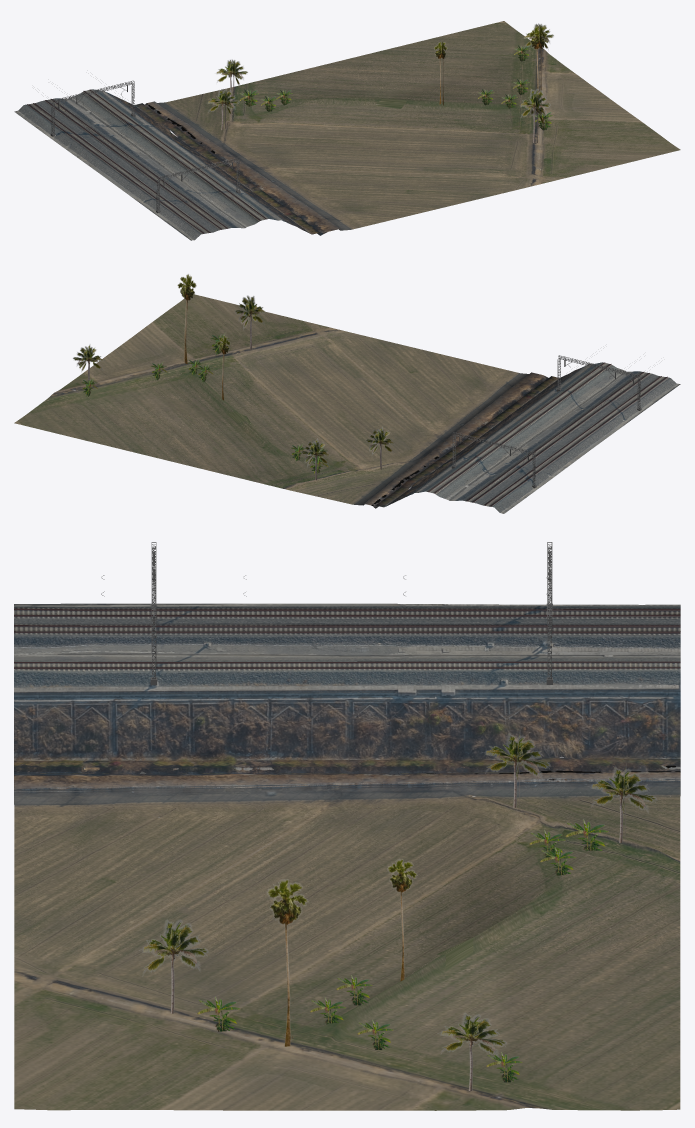
File: indian_railway_seane_scan_to_lowpoly.glb
3 renders of one model, top to bottom at view 1: azimuth 30°, elevation 25°; view 2: azimuth 150°, elevation 25°; view 3: azimuth 270°, elevation 25°, orthographic. The views are drawn at different scales.
Visible parts, largest first — view 1: lowpoly.001_0, lowpoly.002_3, banana.001_6, MAST_1, lowpoly.004_5; view 2: lowpoly.001_0, lowpoly.002_3, banana.001_6, lowpoly.004_5, MAST_1; view 3: lowpoly.001_0, lowpoly.004_5, lowpoly.002_3, banana.001_6, MAST_1.
Part boxes in pixels (left/top/right/bottom): lowpoly.001_0: left=14, top=21, right=680, bottom=240; lowpoly.002_3: left=134, top=101, right=350, bottom=235; banana.001_6: left=208, top=23, right=553, bottom=142; MAST_1: left=50, top=80, right=240, bottom=213; lowpoly.004_5: left=109, top=93, right=310, bottom=233; lowpoly.001_0: left=14, top=294, right=680, bottom=513; lowpoly.002_3: left=353, top=372, right=558, bottom=508; banana.001_6: left=73, top=274, right=393, bottom=480; lowpoly.004_5: left=385, top=366, right=584, bottom=506; MAST_1: left=451, top=355, right=641, bottom=488; lowpoly.001_0: left=14, top=603, right=680, bottom=1110; lowpoly.004_5: left=14, top=698, right=680, bottom=759; lowpoly.002_3: left=14, top=757, right=680, bottom=804; banana.001_6: left=139, top=730, right=656, bottom=1090; MAST_1: left=150, top=542, right=552, bottom=685.
Bounding box in the file's own units: 19.78 × 3.78 × 12.37.
Materials: 7 (4 with a texture image).
